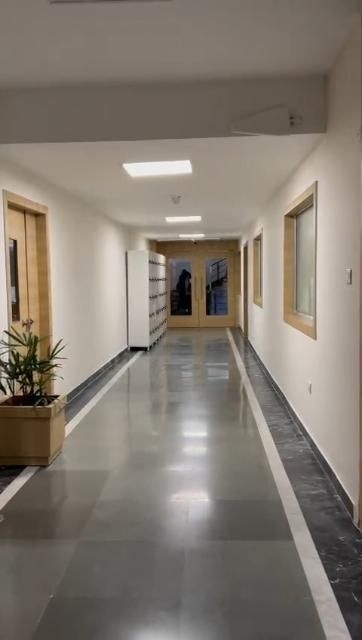door: (0, 174, 48, 338), (162, 238, 242, 332)
floor: (0, 334, 359, 640)
object: (0, 326, 68, 462)
wall: (314, 154, 361, 450), (50, 185, 124, 351), (264, 212, 286, 364)
